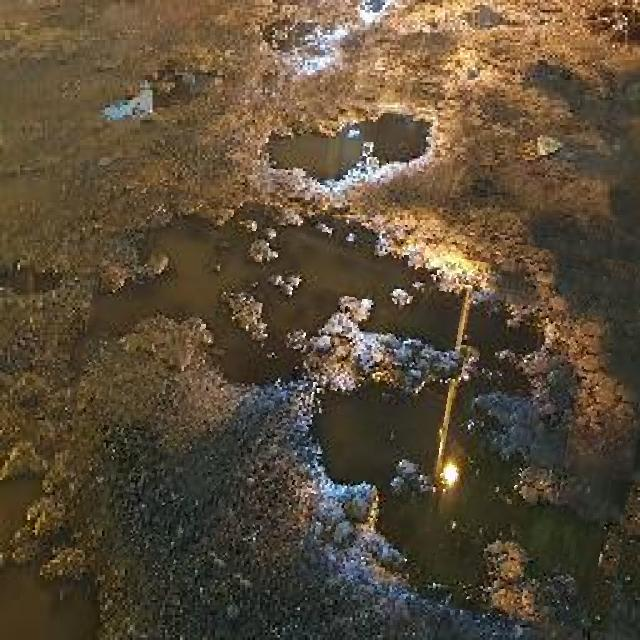puddle: (66, 202, 640, 613), (262, 101, 438, 191)
